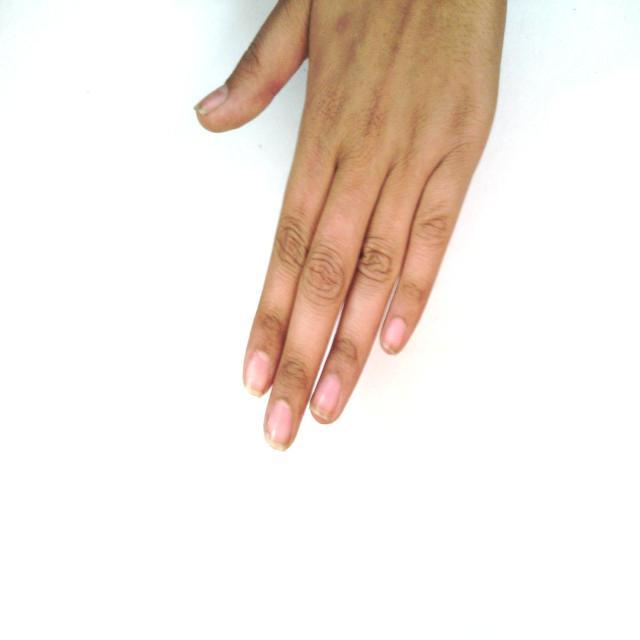Fingernail: (310, 375, 341, 421), (266, 400, 292, 451), (245, 350, 273, 397), (194, 85, 230, 116), (383, 318, 407, 355)
